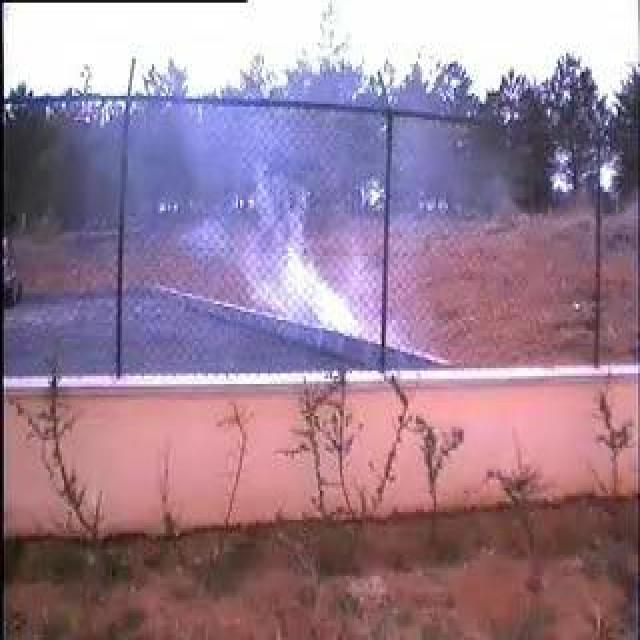Smoke: (173, 141, 405, 336)
